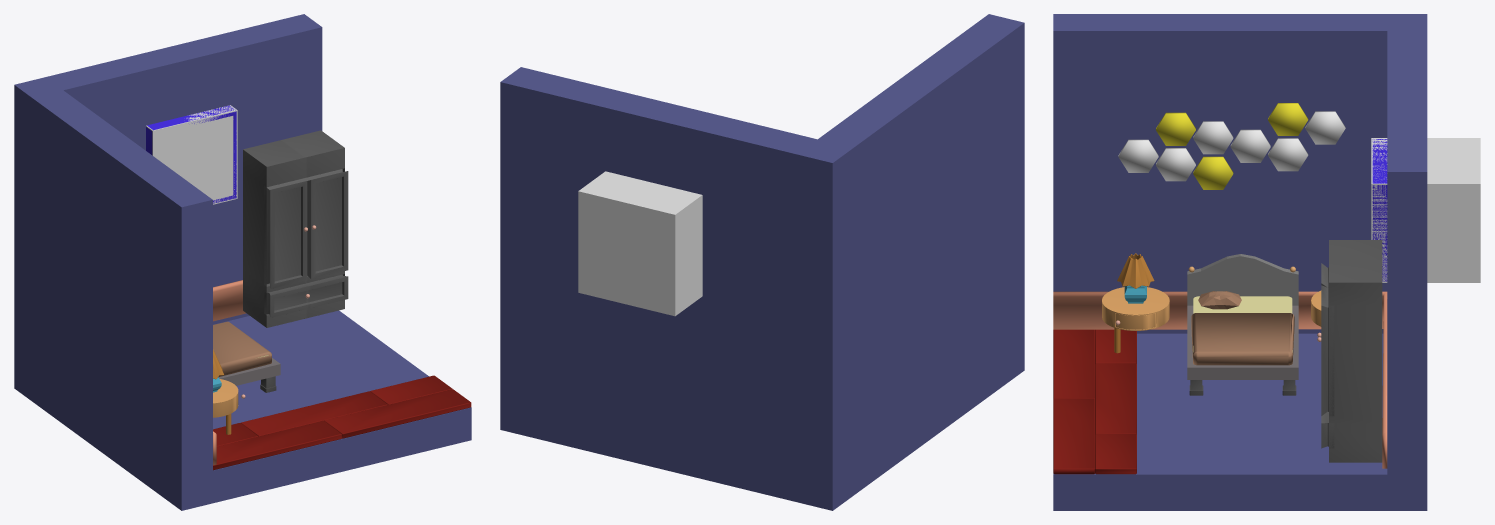
3 renders of one model, left to right at view 1: azimuth 30°, elevation 25°; view 2: azimuth 150°, elevation 25°; view 3: azimuth 270°, elevation 25°, orthographic. The views are drawn at different scales.
Visible parts, largest first — view 1: walls, cabinate, floor, window bool.001, Blanket, window, floor_trim, table_top, bed; view 2: walls, window bool.001; view 3: walls, cabinate, floor, Cylinder, window bool.001, Blanket, floor_trim, headboard, table_top, bed, window, MATRESS (+2 smaller).
Part boxes in pixels (x1=…): walls: x1=14, y1=14, x2=471, y2=510; cabinate: x1=243, y1=130, x2=348, y2=327; floor: x1=213, y1=375, x2=471, y2=470; window bool.001: x1=146, y1=105, x2=237, y2=204; Blanket: x1=213, y1=321, x2=271, y2=376; window: x1=146, y1=105, x2=236, y2=203; floor_trim: x1=213, y1=280, x2=245, y2=465; table_top: x1=213, y1=379, x2=238, y2=417; bed: x1=218, y1=358, x2=280, y2=385; walls: x1=500, y1=14, x2=1024, y2=510; window bool.001: x1=578, y1=171, x2=702, y2=316; walls: x1=1053, y1=14, x2=1427, y2=510; cabinate: x1=1321, y1=240, x2=1382, y2=462; floor: x1=1053, y1=329, x2=1136, y2=474; Cylinder: x1=1118, y1=103, x2=1345, y2=189; window bool.001: x1=1371, y1=138, x2=1480, y2=282; Blanket: x1=1191, y1=313, x2=1294, y2=365; floor_trim: x1=1053, y1=291, x2=1387, y2=468; headboard: x1=1187, y1=254, x2=1298, y2=305; table_top: x1=1102, y1=287, x2=1321, y2=330; bed: x1=1187, y1=305, x2=1298, y2=379; window: x1=1372, y1=139, x2=1387, y2=281; MATRESS: x1=1193, y1=296, x2=1292, y2=352.
Size of what is drawn, in the model's own units: 8 by 8 by 9.14.
